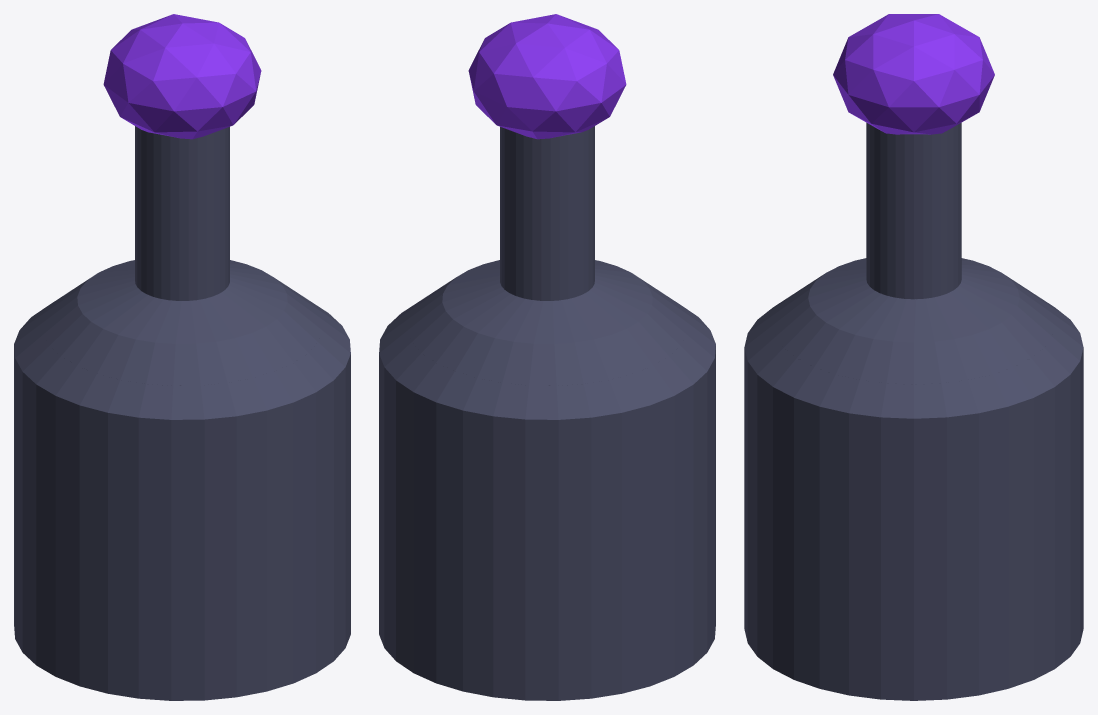
The model's file is bottle2.obj.
The picture shows the model from 3 angles, left to right: view 1: azimuth 30°, elevation 25°; view 2: azimuth 150°, elevation 25°; view 3: azimuth 270°, elevation 25°; orthographic projection.
Visible parts, largest first — view 1: Cylinder, Icosphere; view 2: Cylinder, Icosphere; view 3: Cylinder, Icosphere.
Boxes of the visible parts, x1,y1,x2,y2 form: Cylinder: (14, 126, 350, 700); Icosphere: (103, 14, 261, 139); Cylinder: (379, 126, 715, 700); Icosphere: (468, 14, 626, 139); Cylinder: (744, 122, 1083, 700); Icosphere: (833, 14, 994, 134).
Bounding box in the file's own units: 2.33 × 4.61 × 2.33.
Materials: 2 (2 with a texture image).
